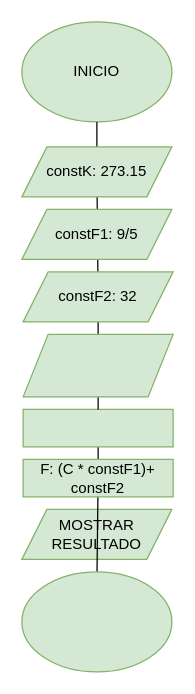
The diagram is 195 pixels wide and 694 high, and some of its shapes have lost their labels. Here are the shapes that lost their labels. From the top down, the centre of each, then its label:
point 97,365: INGRESAR CELCIUS
point 97,427: K: C + constK
point 96,621: FIN
